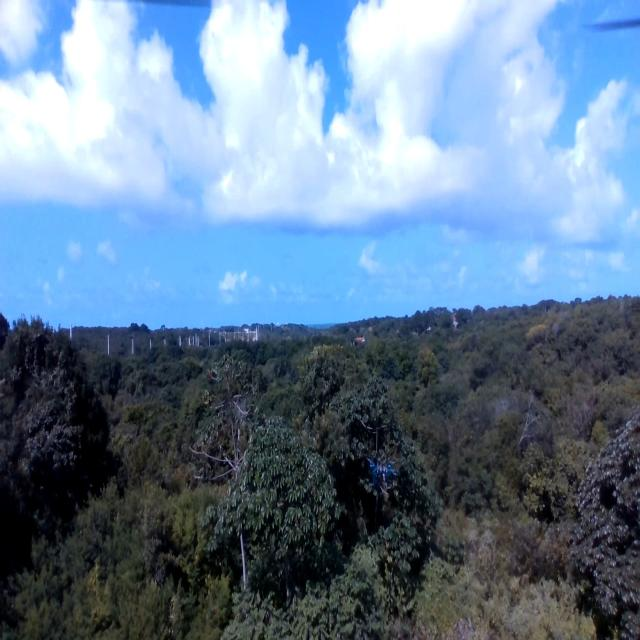-uav-: (367, 445, 398, 505)
